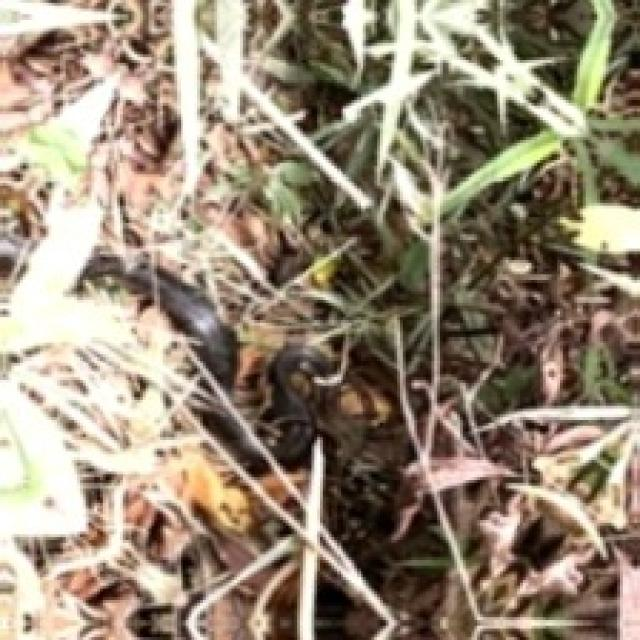king cobra: (84, 252, 240, 391), (256, 346, 332, 468), (200, 410, 268, 472), (0, 236, 20, 276)
